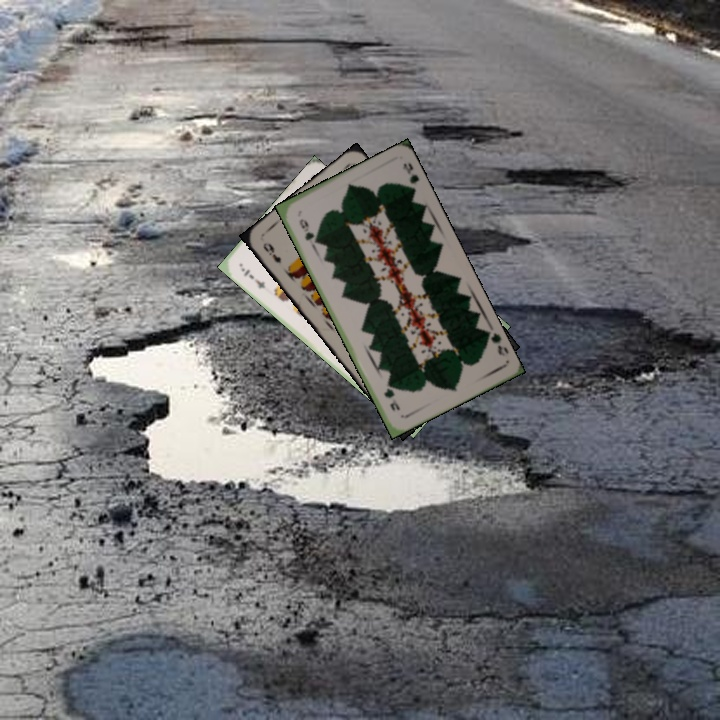E7: (237, 263, 268, 291)
E9: (259, 238, 284, 266)
G9: (481, 327, 510, 358), (295, 215, 316, 243)
